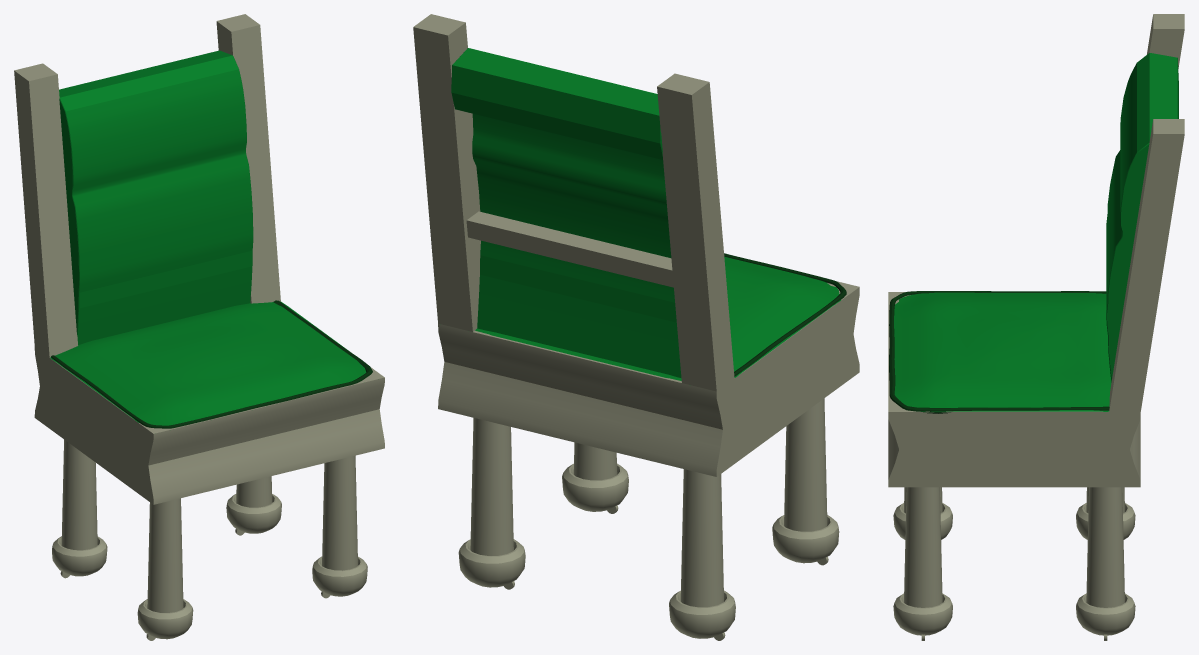
File: chair12.fbx
The picture shows the model from 3 angles, left to right: view 1: azimuth 30°, elevation 25°; view 2: azimuth 150°, elevation 25°; view 3: azimuth 270°, elevation 25°; orthographic projection. The views are drawn at different scales.
Parts seen in each view (by area): view 1: Chair12; view 2: Chair12; view 3: Chair12.
Part boxes in pixels (x1,y1,x2,y2): Chair12: [14, 14, 384, 640]; Chair12: [413, 14, 859, 640]; Chair12: [888, 14, 1184, 640].
Size of the model in its own units: 51.74 by 103 by 53.96.
